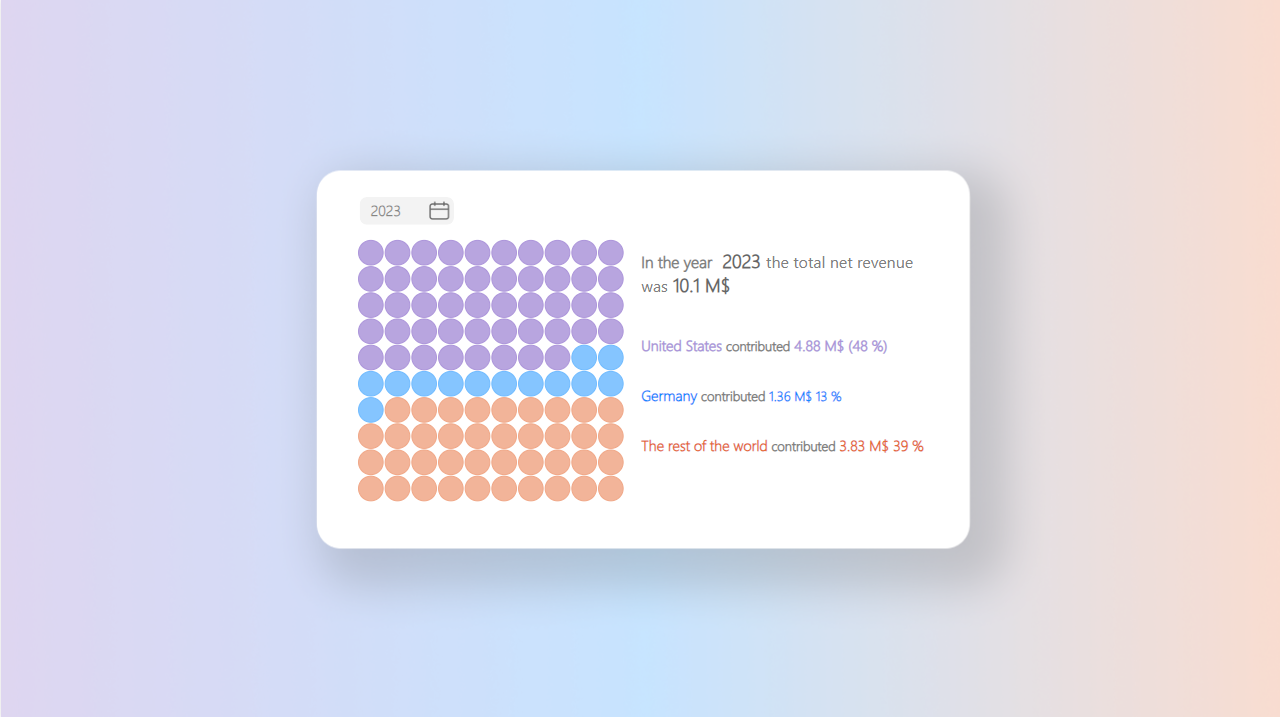

The dashboard page shown, as its layout file describes it:
{"tool":"powerbi","page":{"name":"Page 1","canvas":[1280,720],"ordinal":1},"visuals":[{"type":"scatterChart","title":" ","fields":{"X":["waffle._x"],"Y":["waffle._y"]},"box":[338.9,190,303.3,332.2],"z":3000},{"type":"textbox","box":[635.6,244.4,311.1,67.8],"z":6000},{"type":"textbox","box":[635.6,331.1,295.6,50],"z":7000},{"type":"textbox","box":[635.6,381.1,295.6,50],"z":8000},{"type":"textbox","box":[635.6,431.1,306.7,50],"z":9000},{"type":"card","fields":{"Values":["Max(country_sales.Sales_Year)"]},"box":[359,198.5,52,25.5],"z":11000},{"type":"actionButton","box":[358.9,197.8,94.4,27.8],"z":12000},{"type":"image","box":[423.5,194,30,35],"z":13000}]}

Visuals, with their boxes in screenshot pixels (x1, y1, x2, y2), scaled from the page's 1280x720 canvas onto the 1280x717 screenshot:
" " scatterChart: {"x1": 339, "y1": 189, "x2": 642, "y2": 520}
textbox: {"x1": 636, "y1": 243, "x2": 947, "y2": 311}
textbox: {"x1": 636, "y1": 330, "x2": 931, "y2": 380}
textbox: {"x1": 636, "y1": 380, "x2": 931, "y2": 429}
textbox: {"x1": 636, "y1": 429, "x2": 942, "y2": 479}
card - Max(country_sales.Sales_Year): {"x1": 359, "y1": 198, "x2": 411, "y2": 223}
actionButton: {"x1": 359, "y1": 197, "x2": 453, "y2": 225}
image: {"x1": 424, "y1": 193, "x2": 454, "y2": 228}
